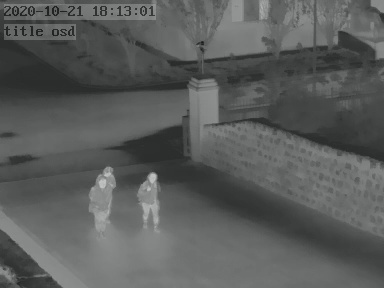person: (138, 166, 163, 232), (89, 169, 113, 237)
